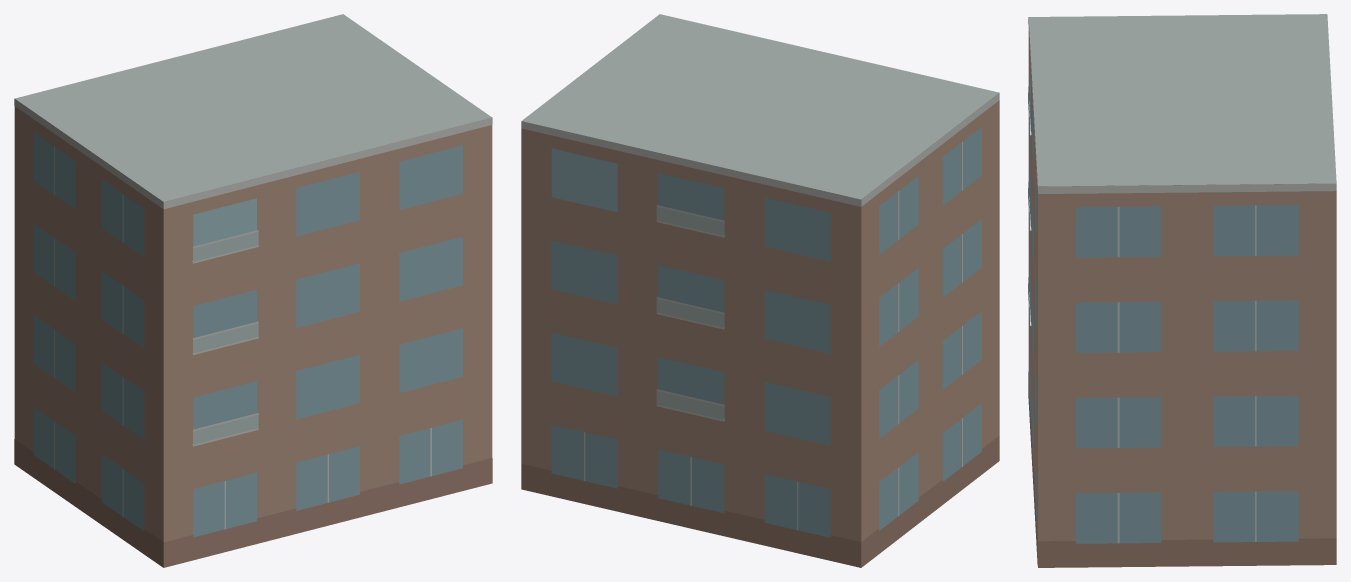
The model's file is residential-012b6026-bd95-40da-bf44-c1d7e52ec360.glb.
The picture shows the model from 3 angles, left to right: view 1: azimuth 30°, elevation 25°; view 2: azimuth 150°, elevation 25°; view 3: azimuth 270°, elevation 25°; orthographic projection. The views are drawn at different scales.
Parts seen in each view (by area): view 1: residential-012b6026-bd95-40da-bf44-c1d7e52ec360.tmp; view 2: residential-012b6026-bd95-40da-bf44-c1d7e52ec360.tmp; view 3: residential-012b6026-bd95-40da-bf44-c1d7e52ec360.tmp.
Boxes of the visible parts, x1,y1,x2,y2 form: residential-012b6026-bd95-40da-bf44-c1d7e52ec360.tmp: [14, 14, 492, 567]; residential-012b6026-bd95-40da-bf44-c1d7e52ec360.tmp: [521, 14, 999, 567]; residential-012b6026-bd95-40da-bf44-c1d7e52ec360.tmp: [1028, 14, 1336, 567].
Size of the model in its own units: 11.84 by 12.2 by 8.95.
